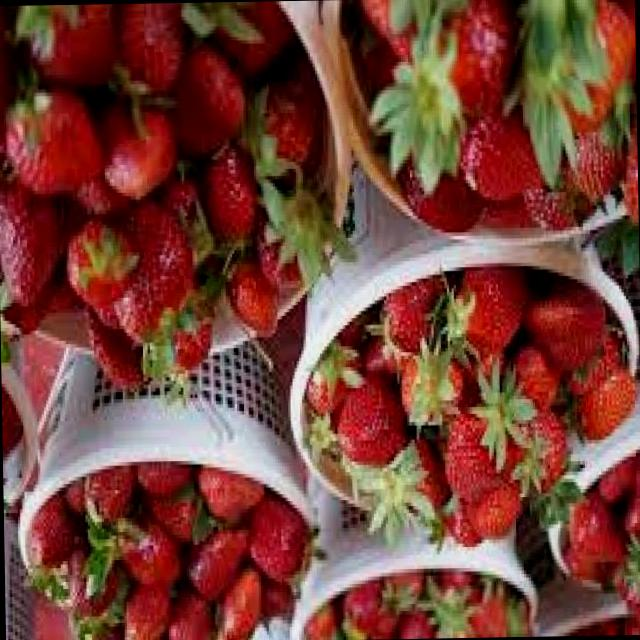Strawberry: (0, 3, 355, 401), (299, 267, 637, 557), (22, 462, 314, 640)
